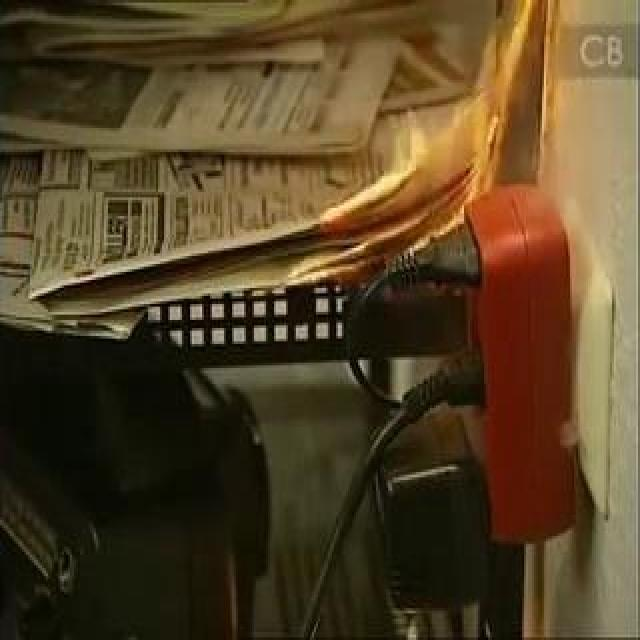Fire: (236, 2, 524, 314)
